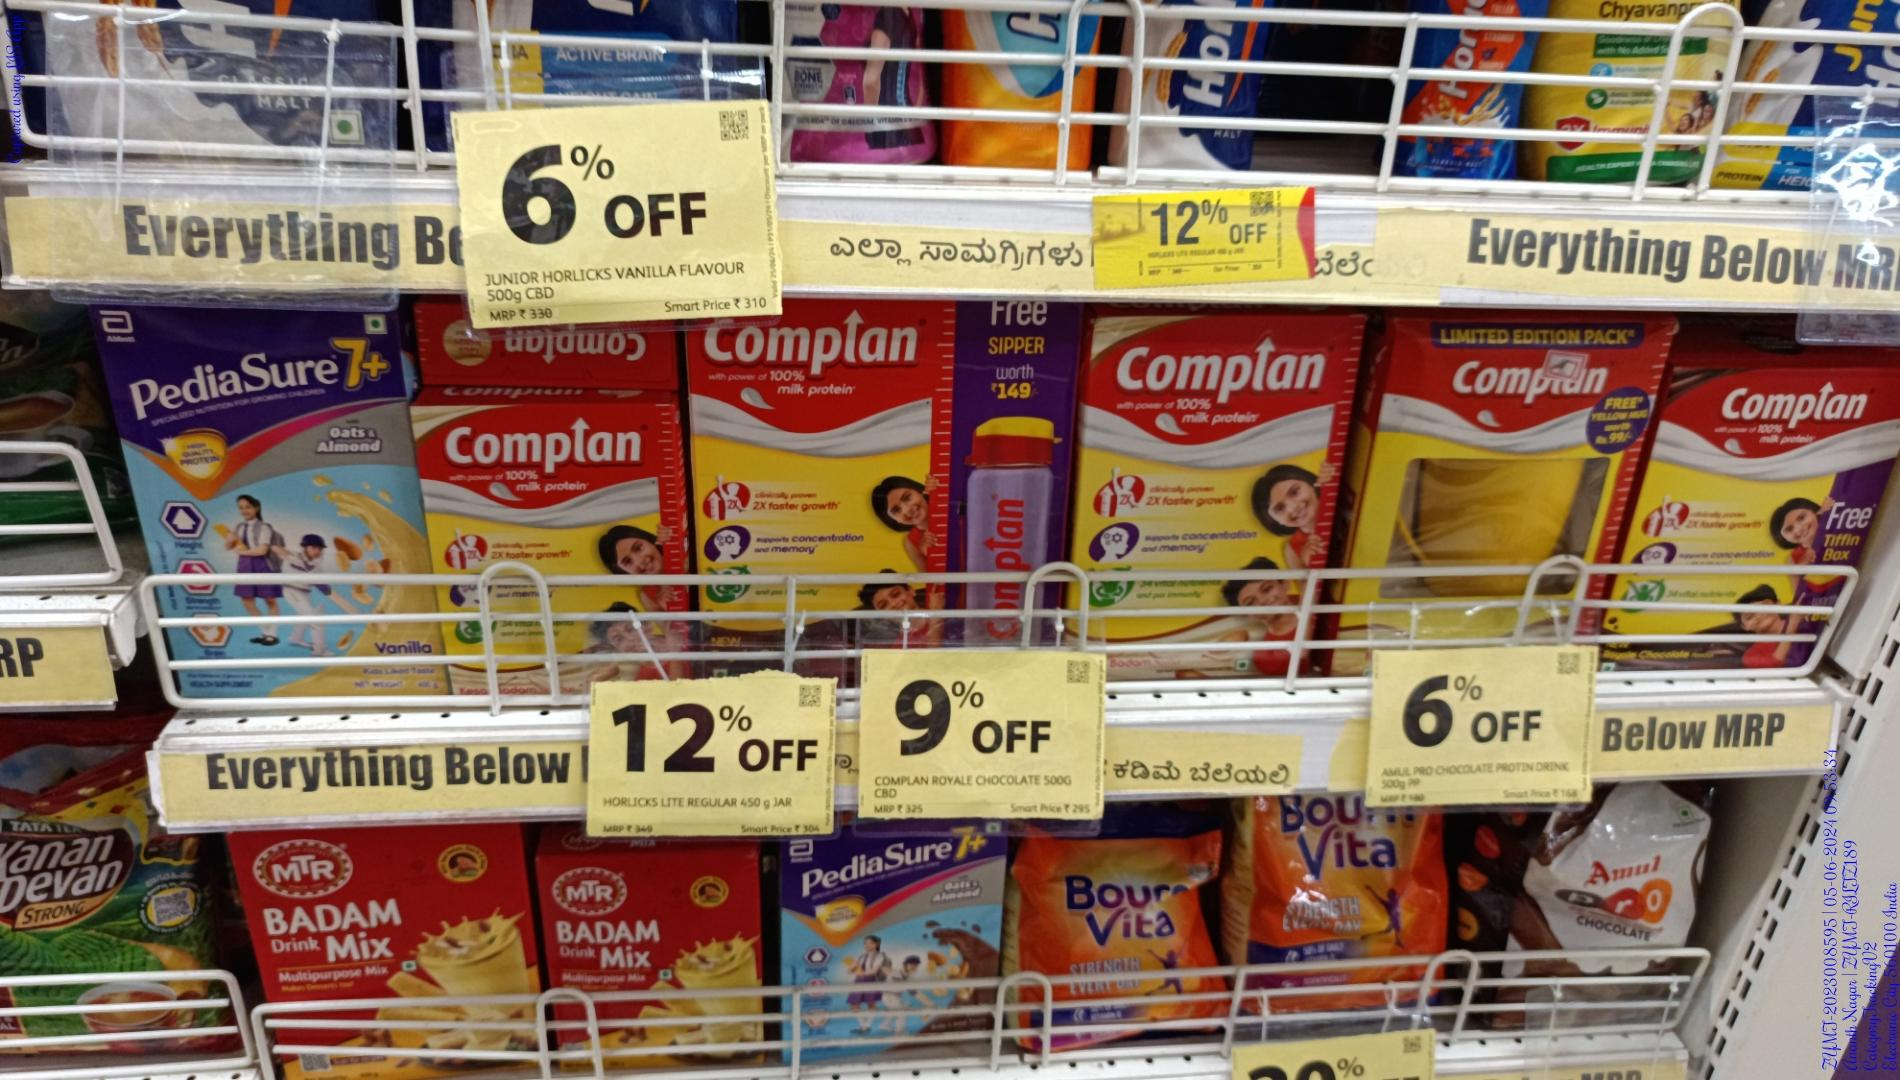BOURN_VITA_500_G_POUCH: (1019, 820, 1228, 1042)
BOURN_VITA_750_G_POUCH: (1236, 798, 1445, 1011)
COMPLAN_CHOCOLATE_500_GMS_PACK: (694, 313, 953, 644)
COMPLAN_KESAR_BADAM_200_GMS_PACK: (436, 404, 680, 700)
COMPLAN_KESAR_BADAM_500_GMS_PACK: (1070, 322, 1349, 646)
PEDIASURE_7_PLUS_CHOCOLATE_400_G_PACK: (780, 840, 1006, 1062)
